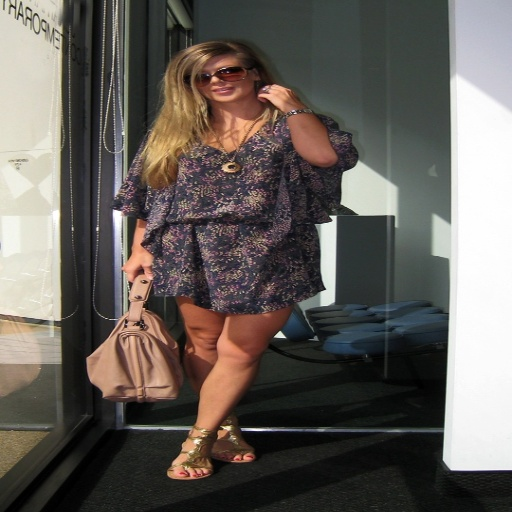hand: (246, 76, 304, 109), (117, 250, 154, 284)
